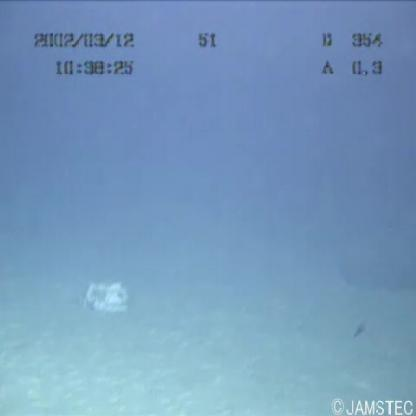Rác: (72, 270, 148, 322)
